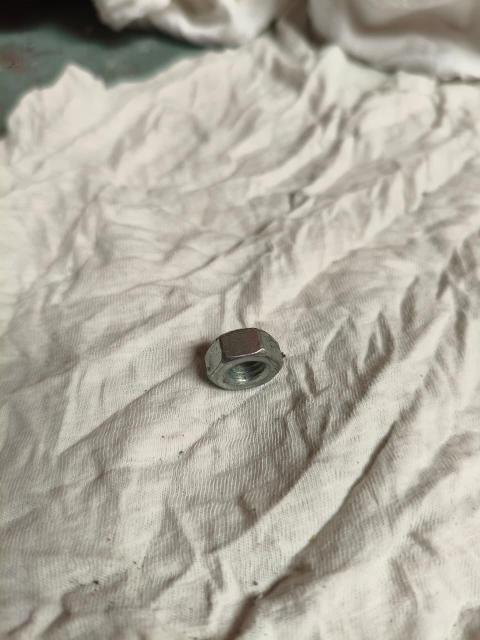Metal: (207, 322, 282, 397)
